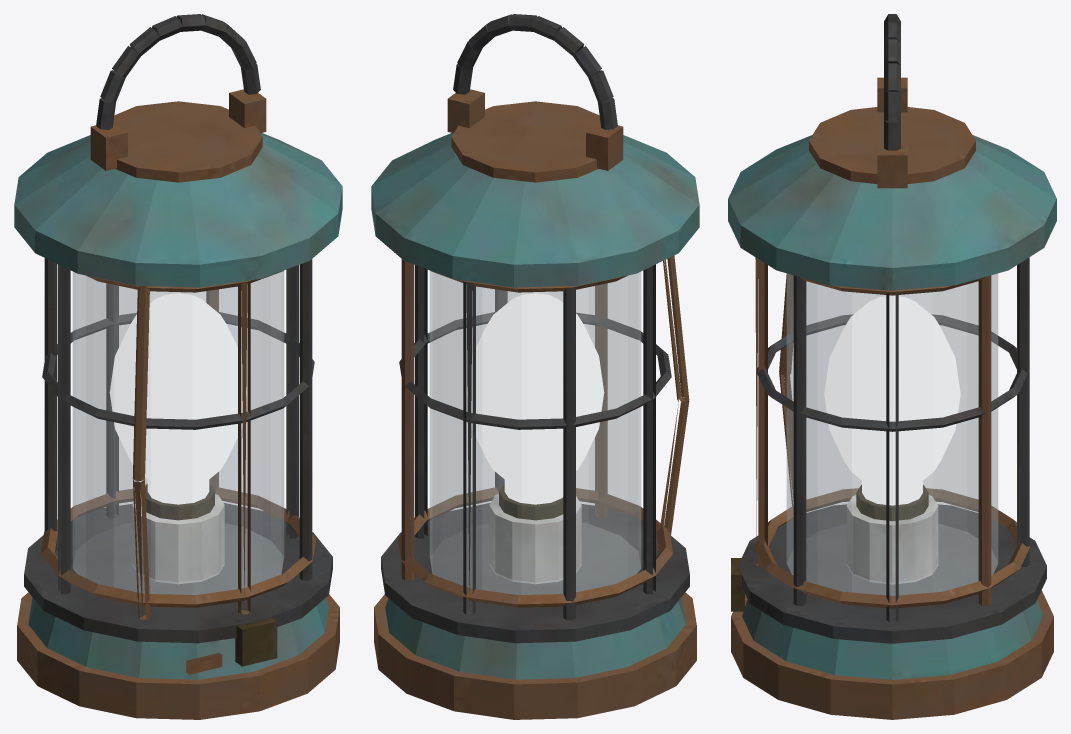
File: Y23_caged_tunnel_lamp.glb
3 views of the same model, side by side, from view 1: azimuth 30°, elevation 25°; view 2: azimuth 150°, elevation 25°; view 3: azimuth 270°, elevation 25° (orthographic).
Visible parts, largest first — view 1: Cast foot; view 2: Cast foot; view 3: Cast foot.
Part boxes in pixels (bbox=[...]): Cast foot: bbox=[14, 14, 342, 719]; Cast foot: bbox=[371, 14, 699, 719]; Cast foot: bbox=[728, 14, 1056, 719].
Bounding box in the file's own units: 0.2364 × 0.5 × 0.2364.
Materials: 8 (6 with a texture image).
